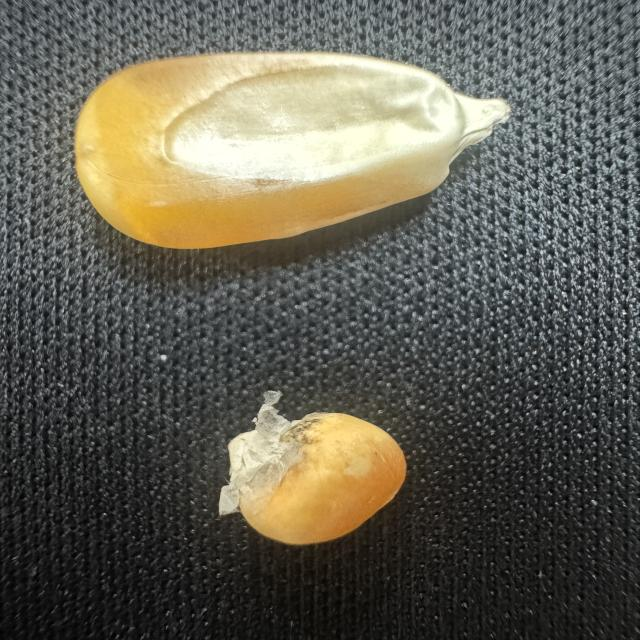Bad-Seed: (211, 380, 419, 553)
Good-Seed: (62, 34, 521, 262)
